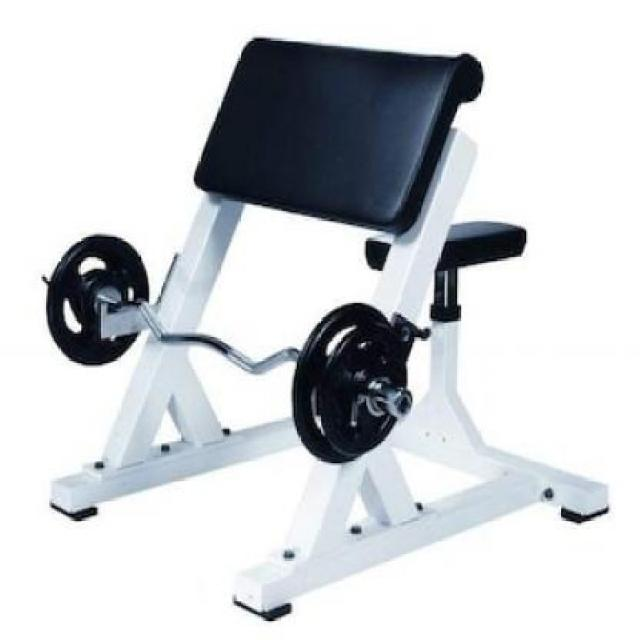arm curl machine: (38, 33, 611, 624)
